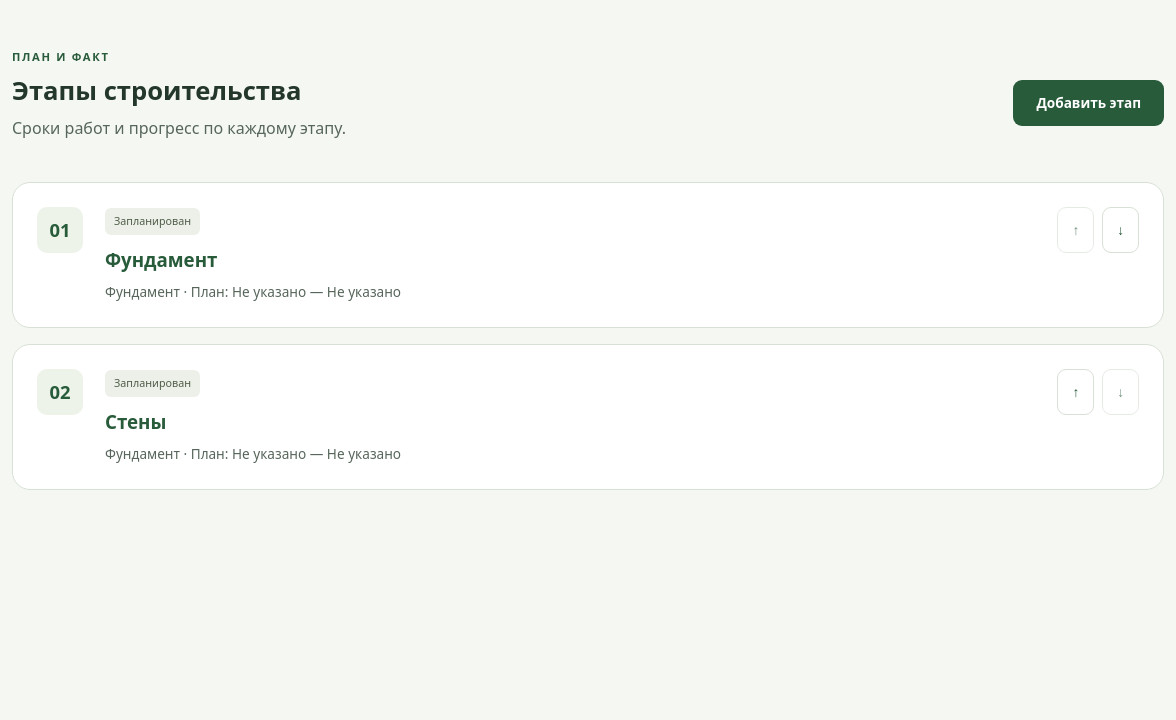
Test: перестановка передаёт полный список этапов с версиями
The width and height of the screenshot is (1176, 720).
Click the button named "Поднять этап Стены" at (1076, 392), box [1057,369,1094,415]
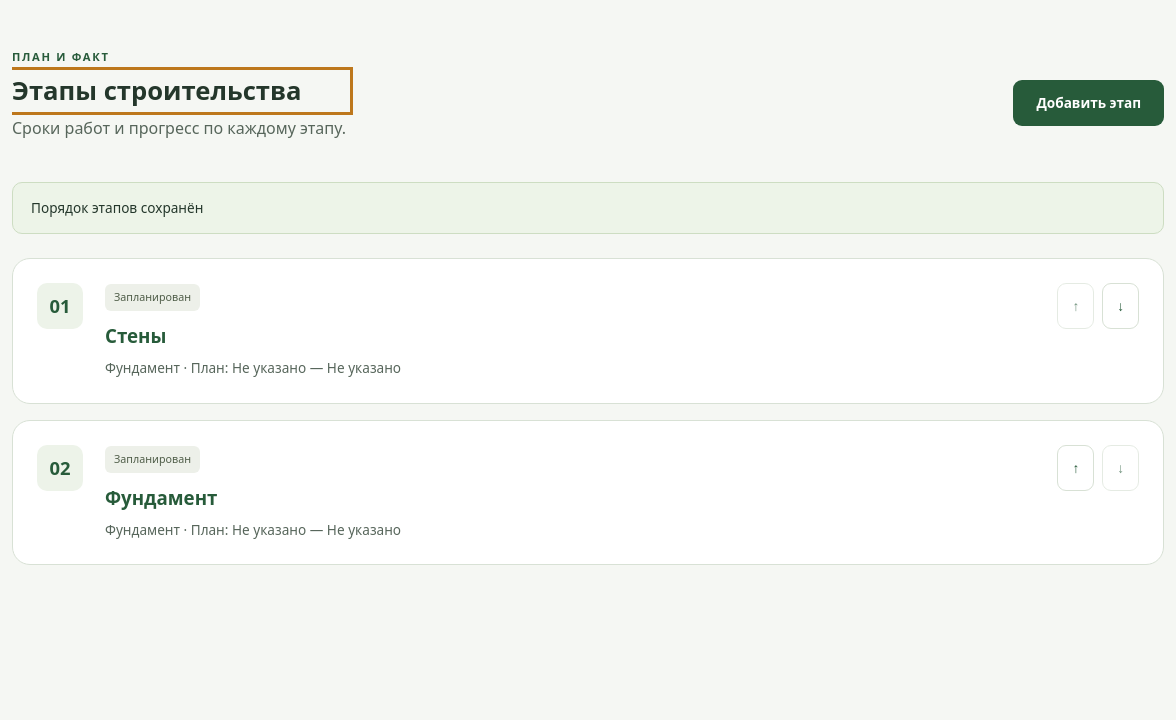
Expected: the text "Порядок этапов сохранён" is shown, [12,182,1164,234]
